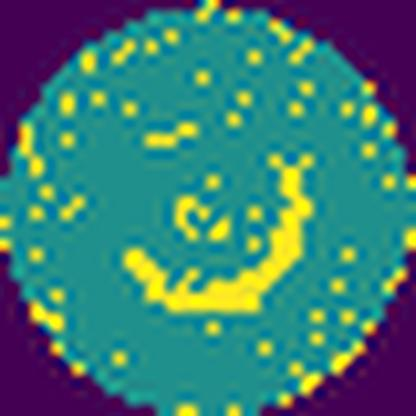Donut: (110, 122, 322, 326)
